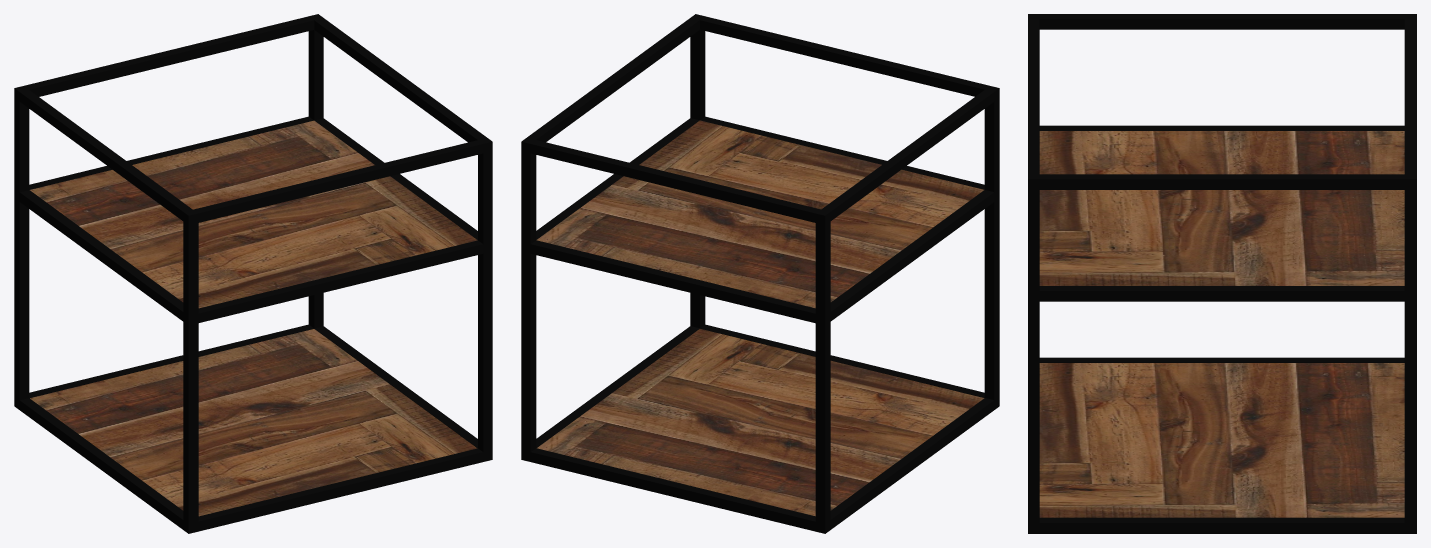
The picture shows the model from 3 angles, left to right: view 1: azimuth 30°, elevation 25°; view 2: azimuth 150°, elevation 25°; view 3: azimuth 270°, elevation 25°; orthographic projection. The views are drawn at different scales.
Visible parts, largest first — view 1: Cube_3, Cube_1, Cube_2; view 2: Cube_3, Cube_1, Cube_2; view 3: Cube_1, Cube_2, Cube_3.
Part boxes in pixels (box(x1,y1,x2,y2)): Cube_3: box(14, 14, 492, 533); Cube_1: box(30, 329, 477, 516); Cube_2: box(30, 120, 477, 308); Cube_3: box(521, 14, 999, 533); Cube_1: box(537, 329, 984, 516); Cube_2: box(536, 120, 983, 308); Cube_1: box(1039, 363, 1404, 517); Cube_2: box(1039, 131, 1404, 285); Cube_3: box(1028, 14, 1416, 533).
Bounding box in the file's own units: 0.804 × 0.804 × 0.7989.
Materials: 2 (1 with a texture image).
